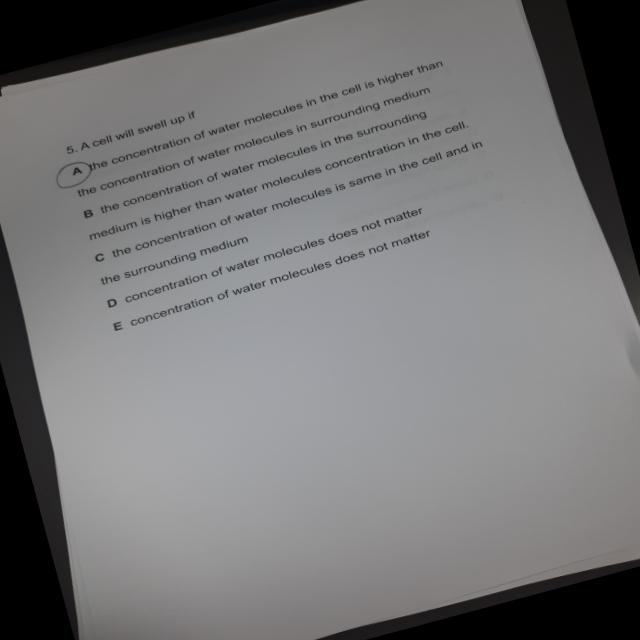A: (48, 154, 101, 192)
